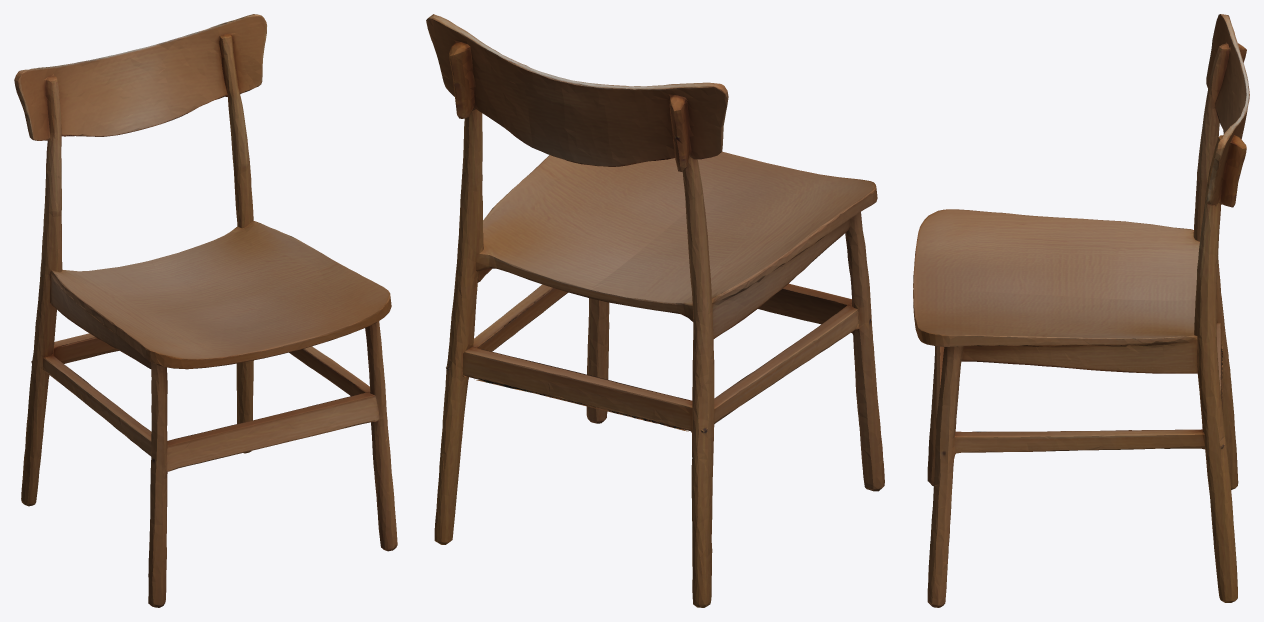
3 views of the same model, side by side, from view 1: azimuth 30°, elevation 25°; view 2: azimuth 150°, elevation 25°; view 3: azimuth 270°, elevation 25° (orthographic). The views are drawn at different scales.
Parts seen in each view (by area): view 1: world; view 2: world; view 3: world.
Part boxes in pixels (bbox=[...]): world: bbox=[14, 14, 397, 607]; world: bbox=[426, 14, 884, 607]; world: bbox=[913, 14, 1249, 607].
Bounding box in the file's own units: 0.5974 × 0.9954 × 0.6469.
Materials: 1 (1 with a texture image).
